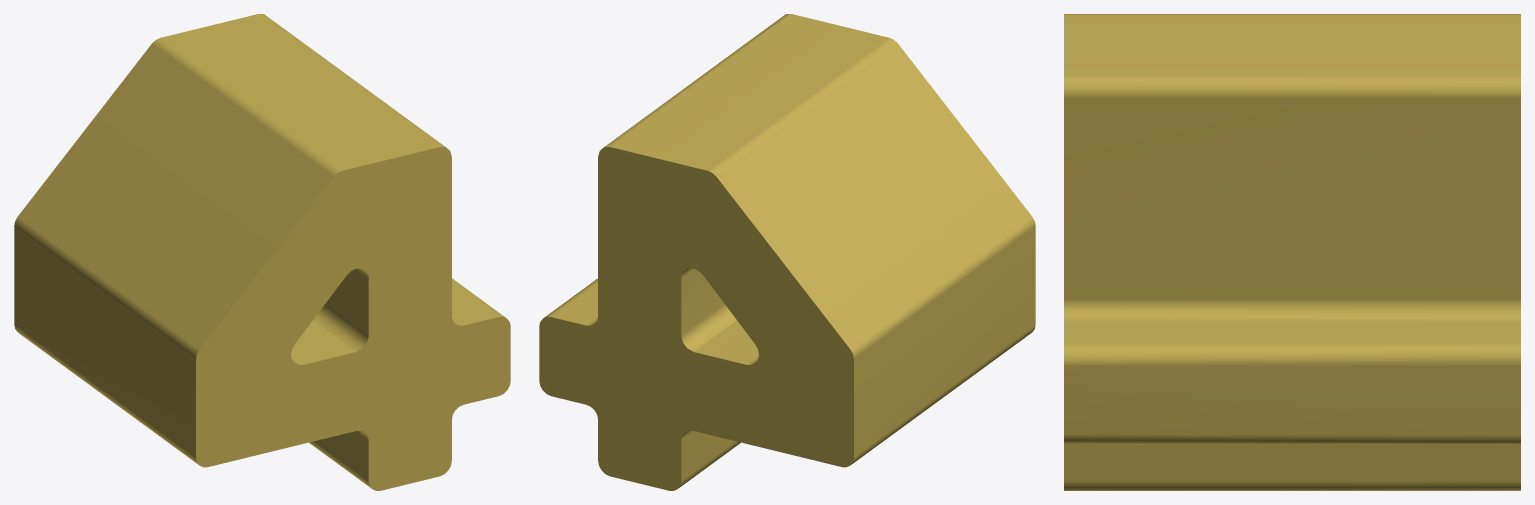
The picture shows the model from 3 angles, left to right: view 1: azimuth 30°, elevation 25°; view 2: azimuth 150°, elevation 25°; view 3: azimuth 270°, elevation 25°; orthographic projection. The views are drawn at different scales.
Size of the model in its own units: 50 by 50 by 50.
